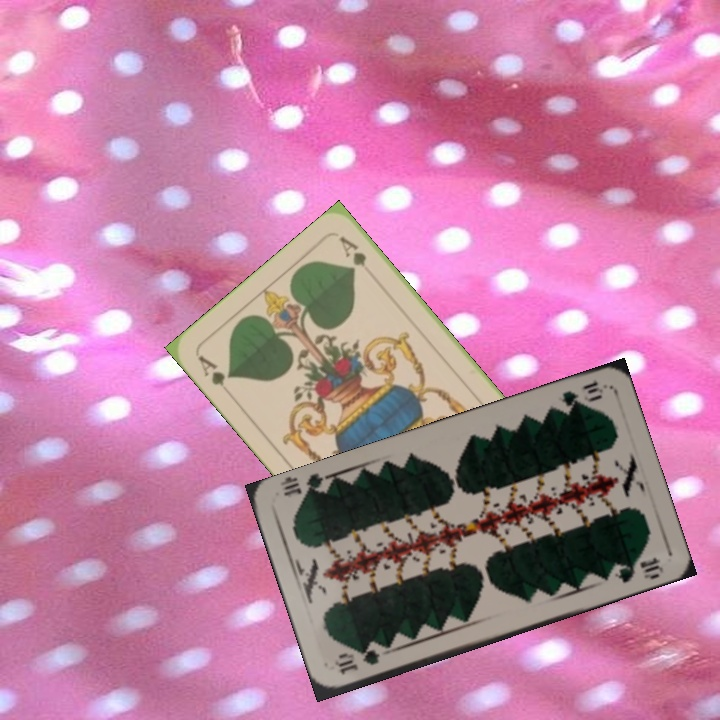G10: (558, 376, 606, 412), (331, 645, 383, 678)
GA: (193, 351, 234, 389)
